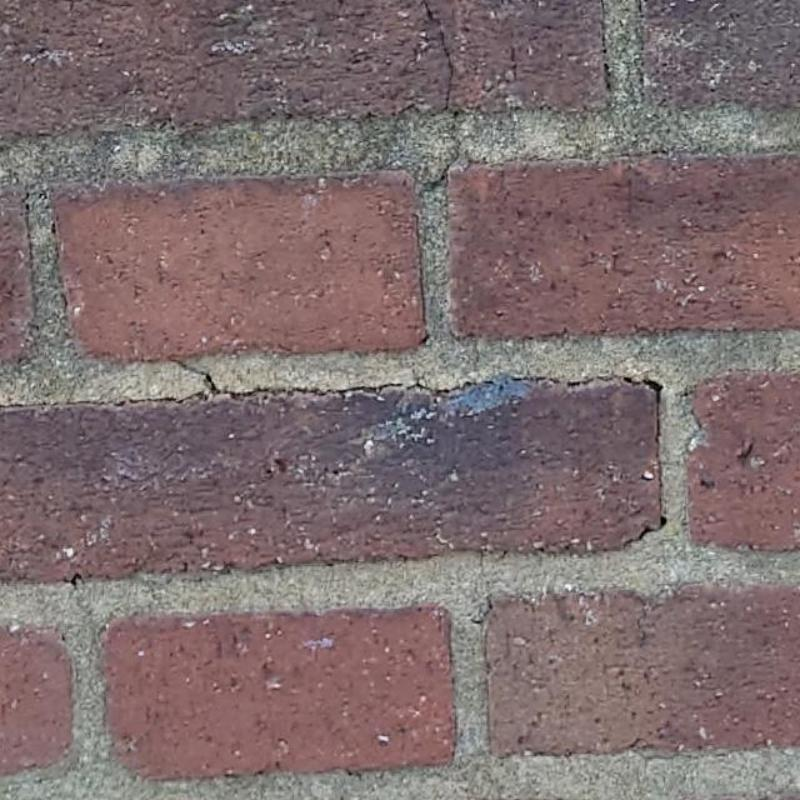pothole: (421, 0, 454, 110), (416, 138, 461, 198), (171, 359, 224, 395)
